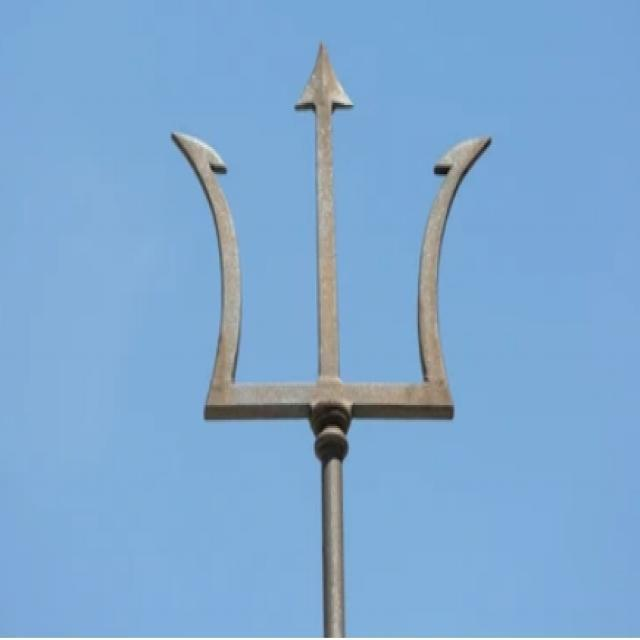spear: (156, 16, 514, 632)
